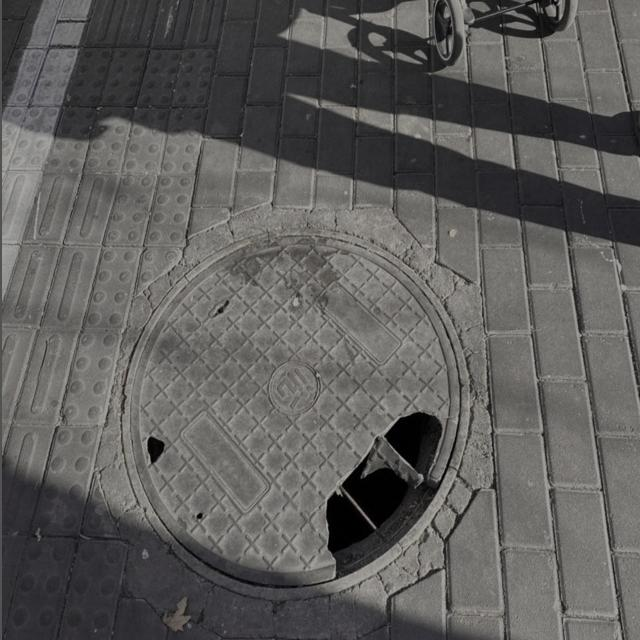broke: (121, 225, 472, 602)
